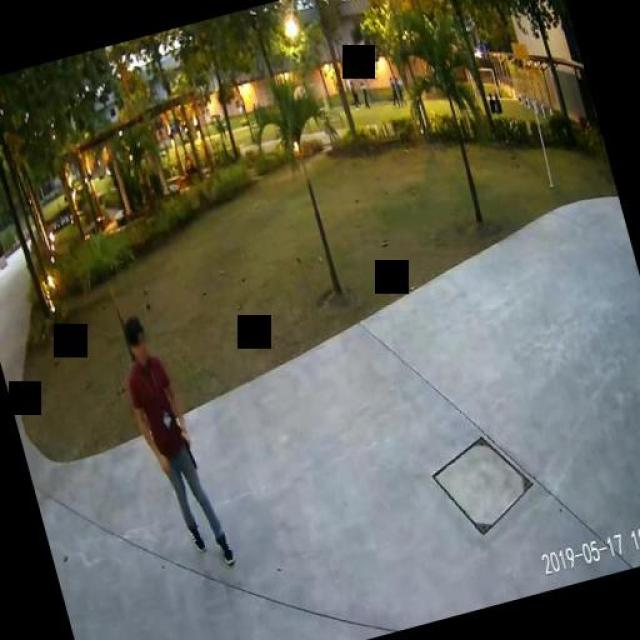gun: (178, 429, 196, 470)
